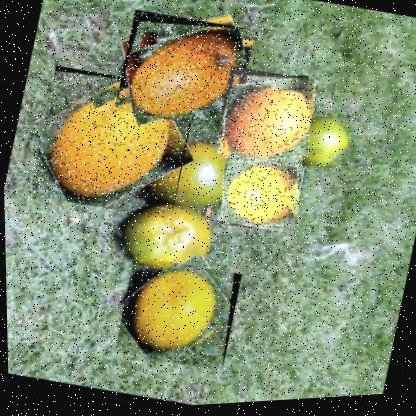orange: (24, 58, 199, 227), (110, 5, 257, 139), (109, 252, 241, 379), (209, 63, 320, 175), (212, 152, 306, 242)
